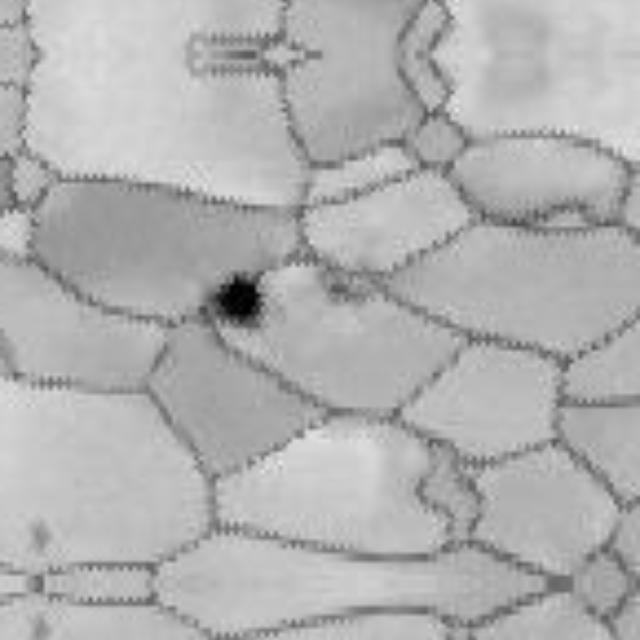good_void: (205, 273, 273, 335)
